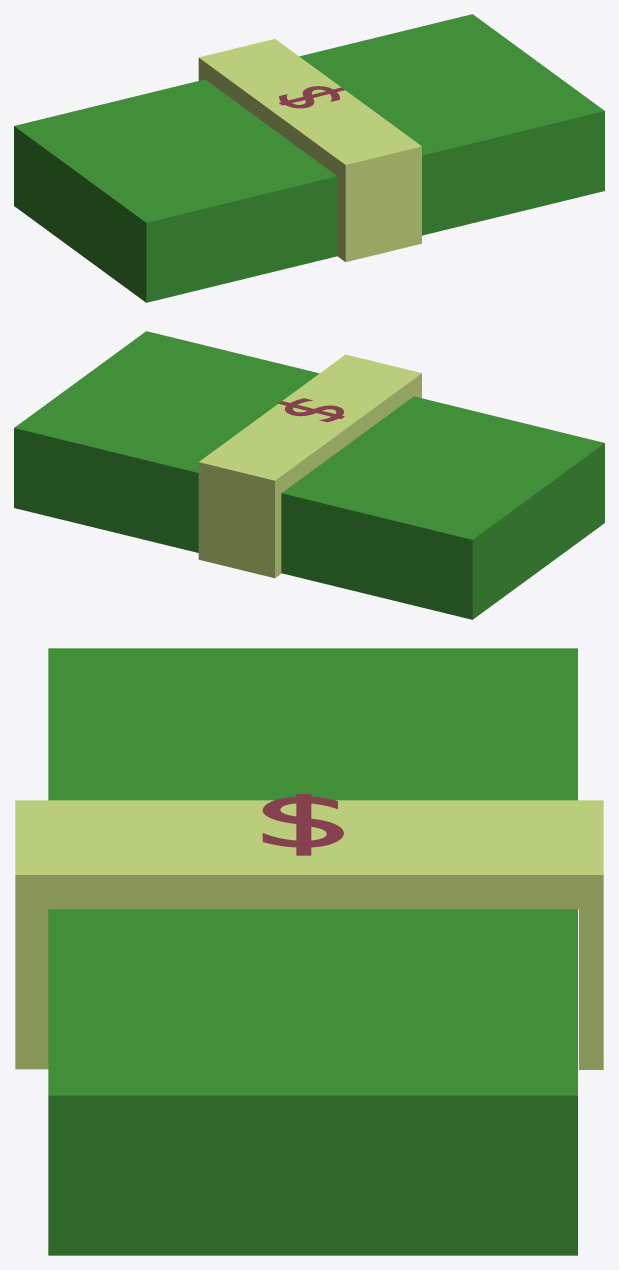
File: cash.glb
The picture shows the model from 3 angles, top to bottom: view 1: azimuth 30°, elevation 25°; view 2: azimuth 150°, elevation 25°; view 3: azimuth 270°, elevation 25°; orthographic projection. The views are drawn at different scales.
Parts seen in each view (by area): view 1: Cube, Cube.001, Text; view 2: Cube, Cube.001, Text; view 3: Cube, Cube.001, Text.
Part boxes in pixels (box(x1,y1,x2,y2)): Cube: box(14, 14, 604, 302); Cube.001: box(198, 39, 421, 261); Text: box(279, 86, 344, 108); Cube: box(14, 331, 604, 619); Cube.001: box(198, 354, 421, 578); Text: box(278, 398, 344, 422); Cube: box(48, 648, 577, 1255); Cube.001: box(15, 800, 603, 1069); Text: box(262, 794, 343, 855).
Bounding box in the file's own units: 1.2 × 0.2601 × 0.6663.
